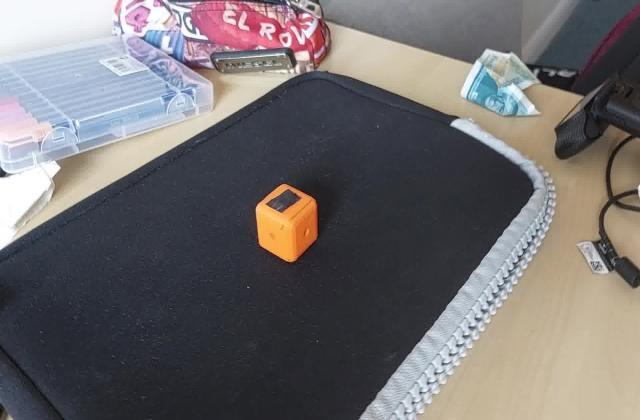black: (268, 190, 302, 214)
cube: (253, 181, 321, 264)
